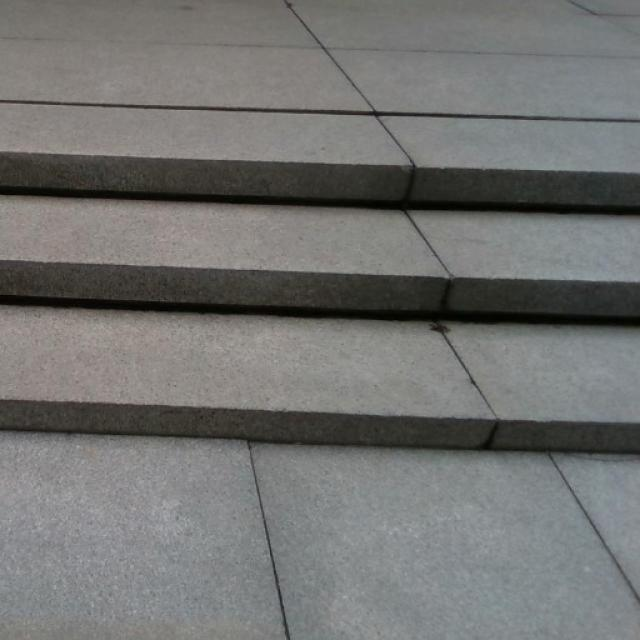Stairs: (0, 152, 639, 452)
